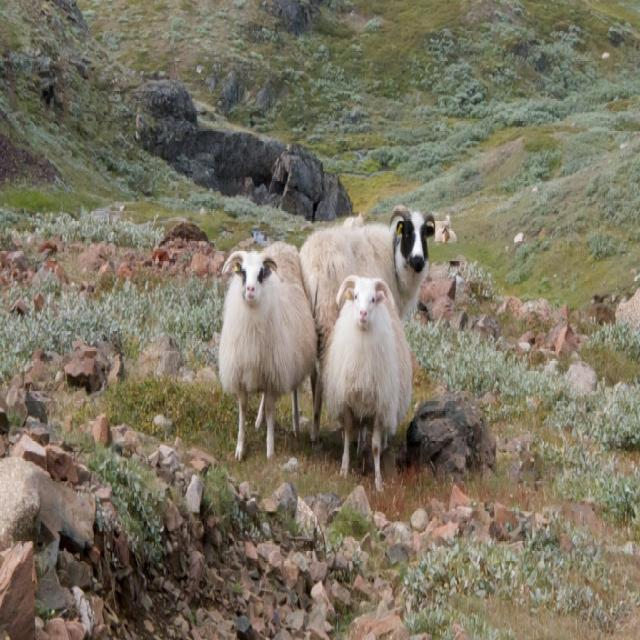Sheep: (218, 204, 457, 492)
